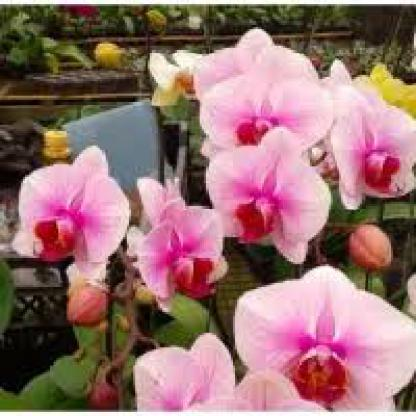ANGGREK: (12, 45, 407, 394)
